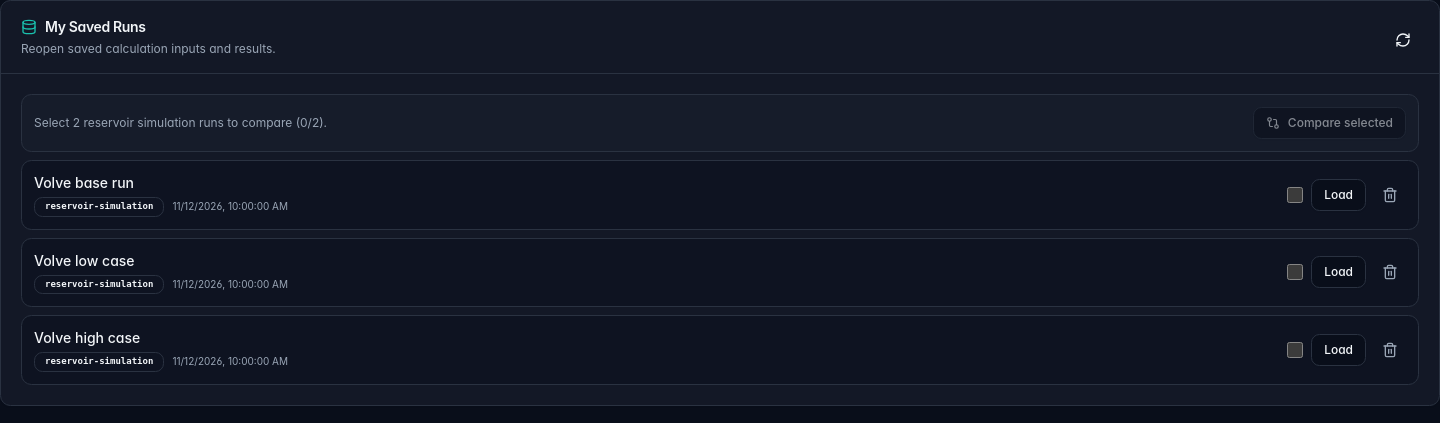
Test case: SavedRunsPanel › compares exactly two selected reservoir runs
The image size is (1440, 423).
Later steps or results of the test are not shown.
Click the checkbox named "Select Volve base run for comparison" at point(1295, 195), box [1287, 187, 1303, 203]
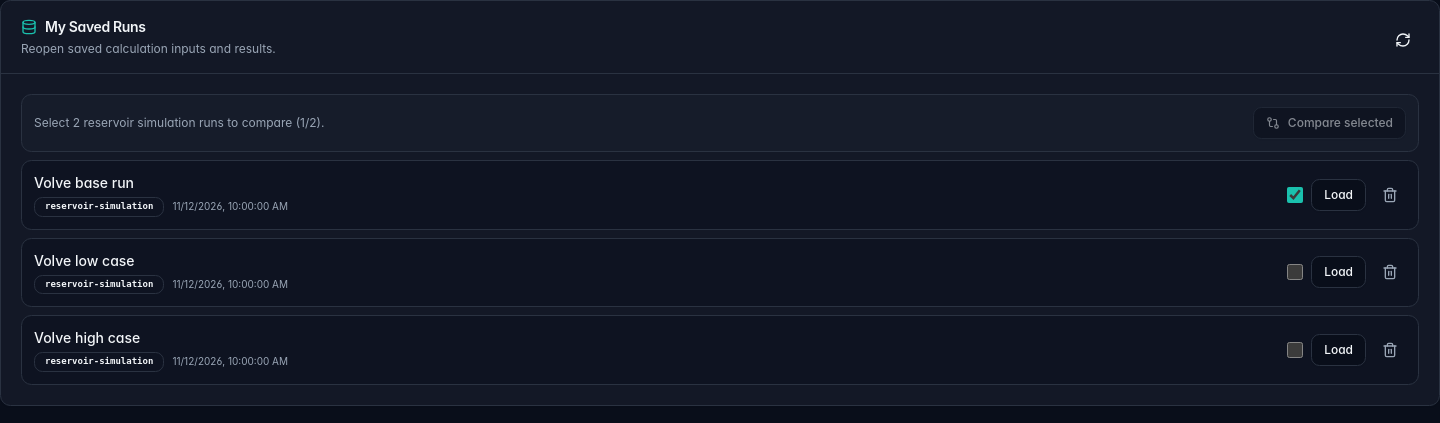
Click the checkbox named "Select Volve low case for comparison" at point(1295, 272), box [1287, 264, 1303, 280]
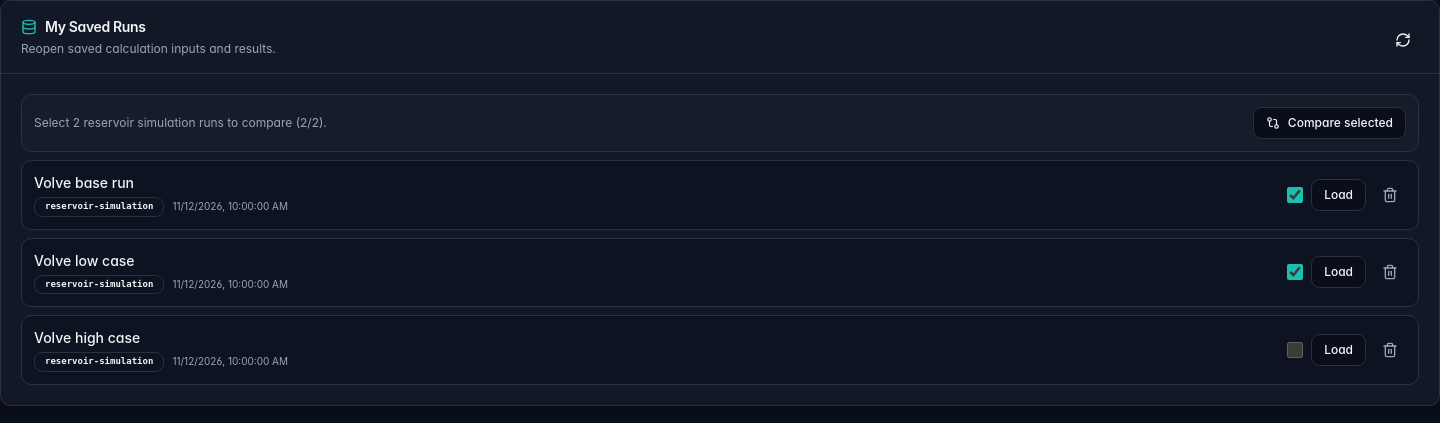
Expected: the checkbox named "Select Volve high case for comparison" is disabled, [1287, 342, 1303, 358]
